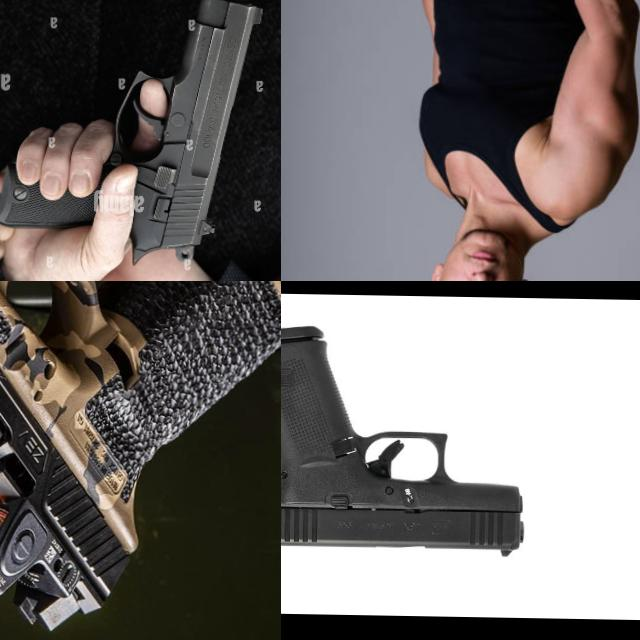handgun: (0, 281, 281, 640), (281, 320, 529, 558), (105, 0, 266, 273), (417, 0, 504, 63)
